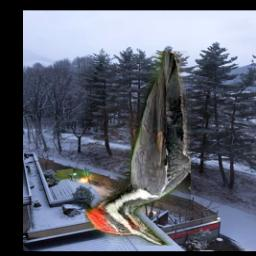Woodpecker: (85, 52, 191, 247)
